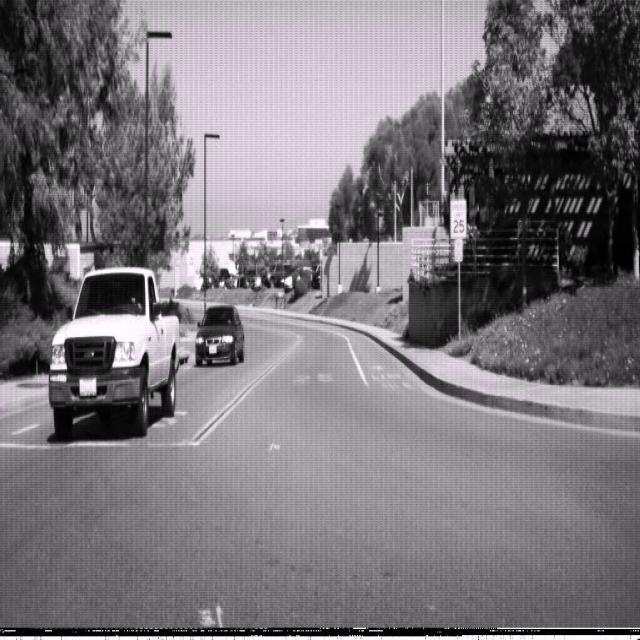speedLimit25: (449, 198, 466, 238)
